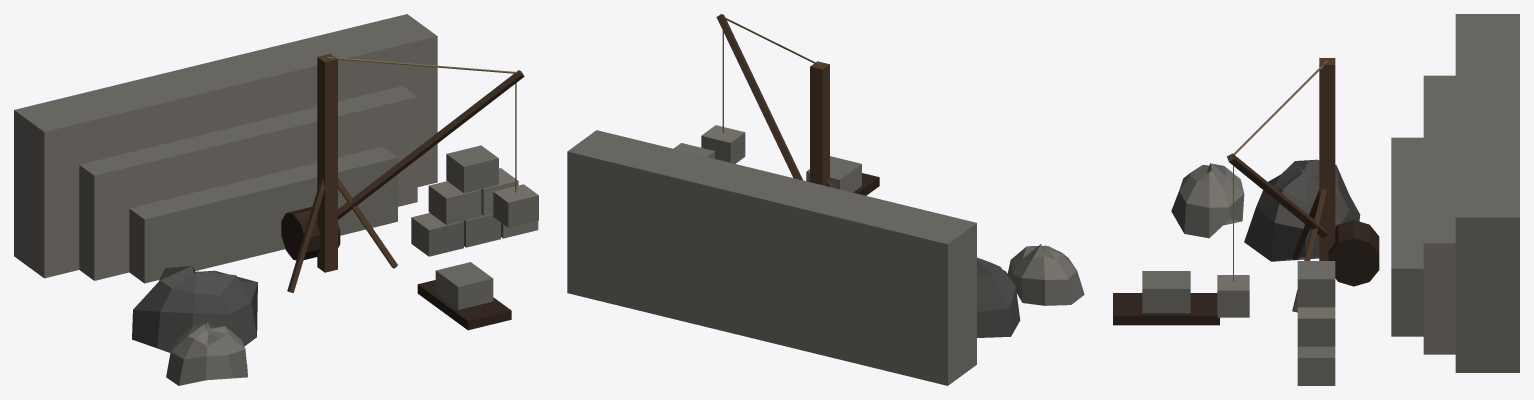
File: walk_hallowed_quarry.glb
3 renders of one model, left to right at view 1: azimuth 30°, elevation 25°; view 2: azimuth 150°, elevation 25°; view 3: azimuth 270°, elevation 25°, orthographic. The views are drawn at different scales.
Parts seen in each view (by area): view 1: walk_hallowed_quarry; view 2: walk_hallowed_quarry; view 3: walk_hallowed_quarry.
Boxes of the visible parts, bbox=[...] form: walk_hallowed_quarry: bbox=[14, 14, 538, 385]; walk_hallowed_quarry: bbox=[567, 14, 1084, 385]; walk_hallowed_quarry: bbox=[1113, 14, 1519, 385].
Size of what is drawn, in the model's own units: 9.6 by 5.18 by 7.6.
Materials: 1 (1 with a texture image).
